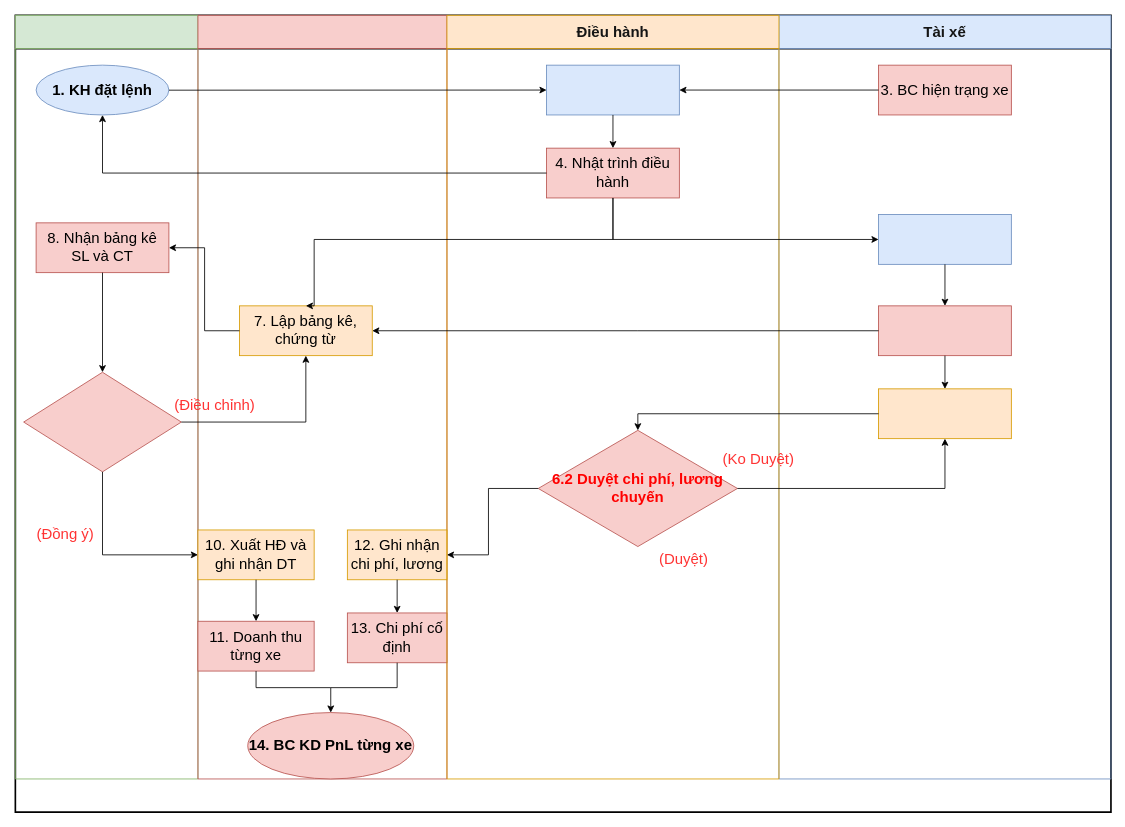
The diagram is 1125 pixels wide and 827 high, and some of its shapes have lost their labels. Each missing label, with the box of its shape:
2. Tiếp nhận thông tin: (546, 64, 679, 115)
5. Nhận lệnh điều động: (878, 214, 1011, 264)
6. Giao hàng, nộp chứng từ: (878, 305, 1011, 356)
6.1. Báo chi phí chuyển, lương: (878, 388, 1011, 439)
9. Đối chiếu sản lượng: (23, 371, 181, 472)
Khách hàng: (15, 15, 198, 779)
Kế toán: (197, 15, 447, 779)
